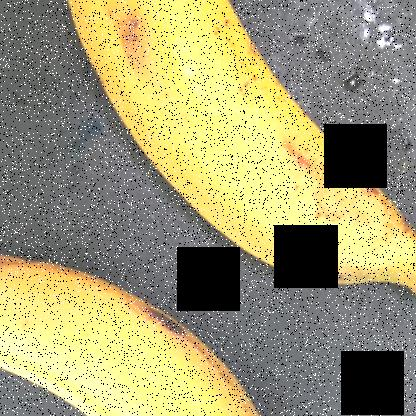freshripe: (0, 238, 327, 415)
ripe: (51, 0, 415, 298)
